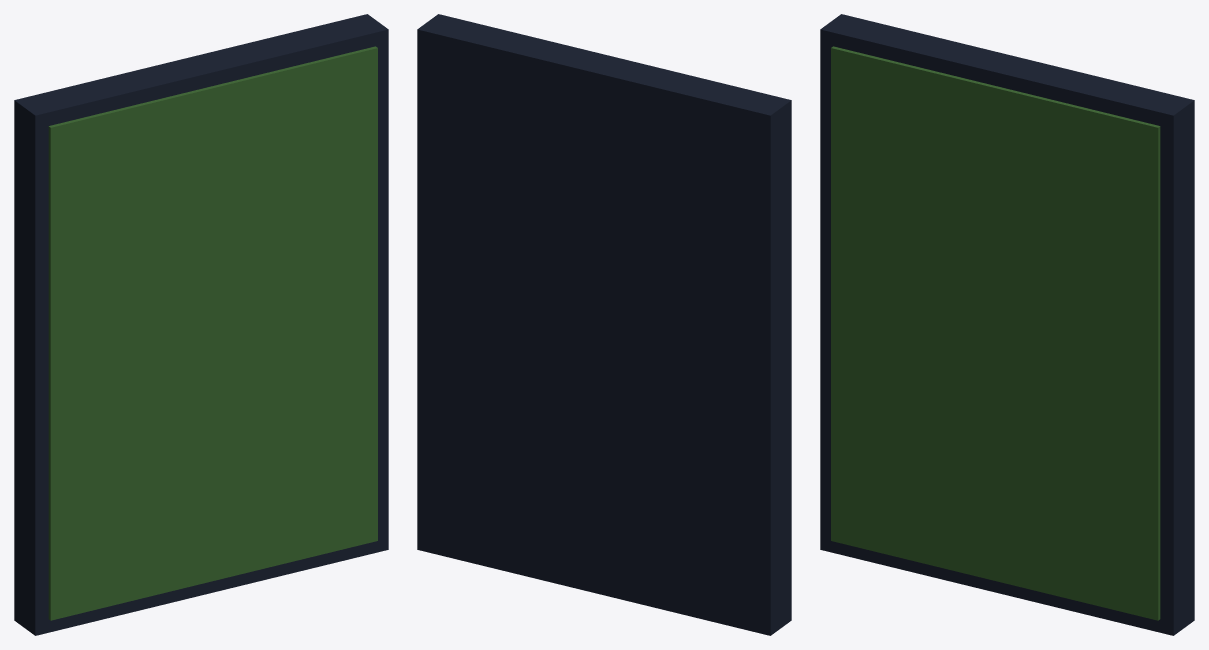
The model's file is dvd-2.glb.
3 renders of one model, left to right at view 1: azimuth 30°, elevation 25°; view 2: azimuth 150°, elevation 25°; view 3: azimuth 330°, elevation 25°, orthographic.
Bounding box in the file's own units: 0.135 × 0.19 × 0.0155.
